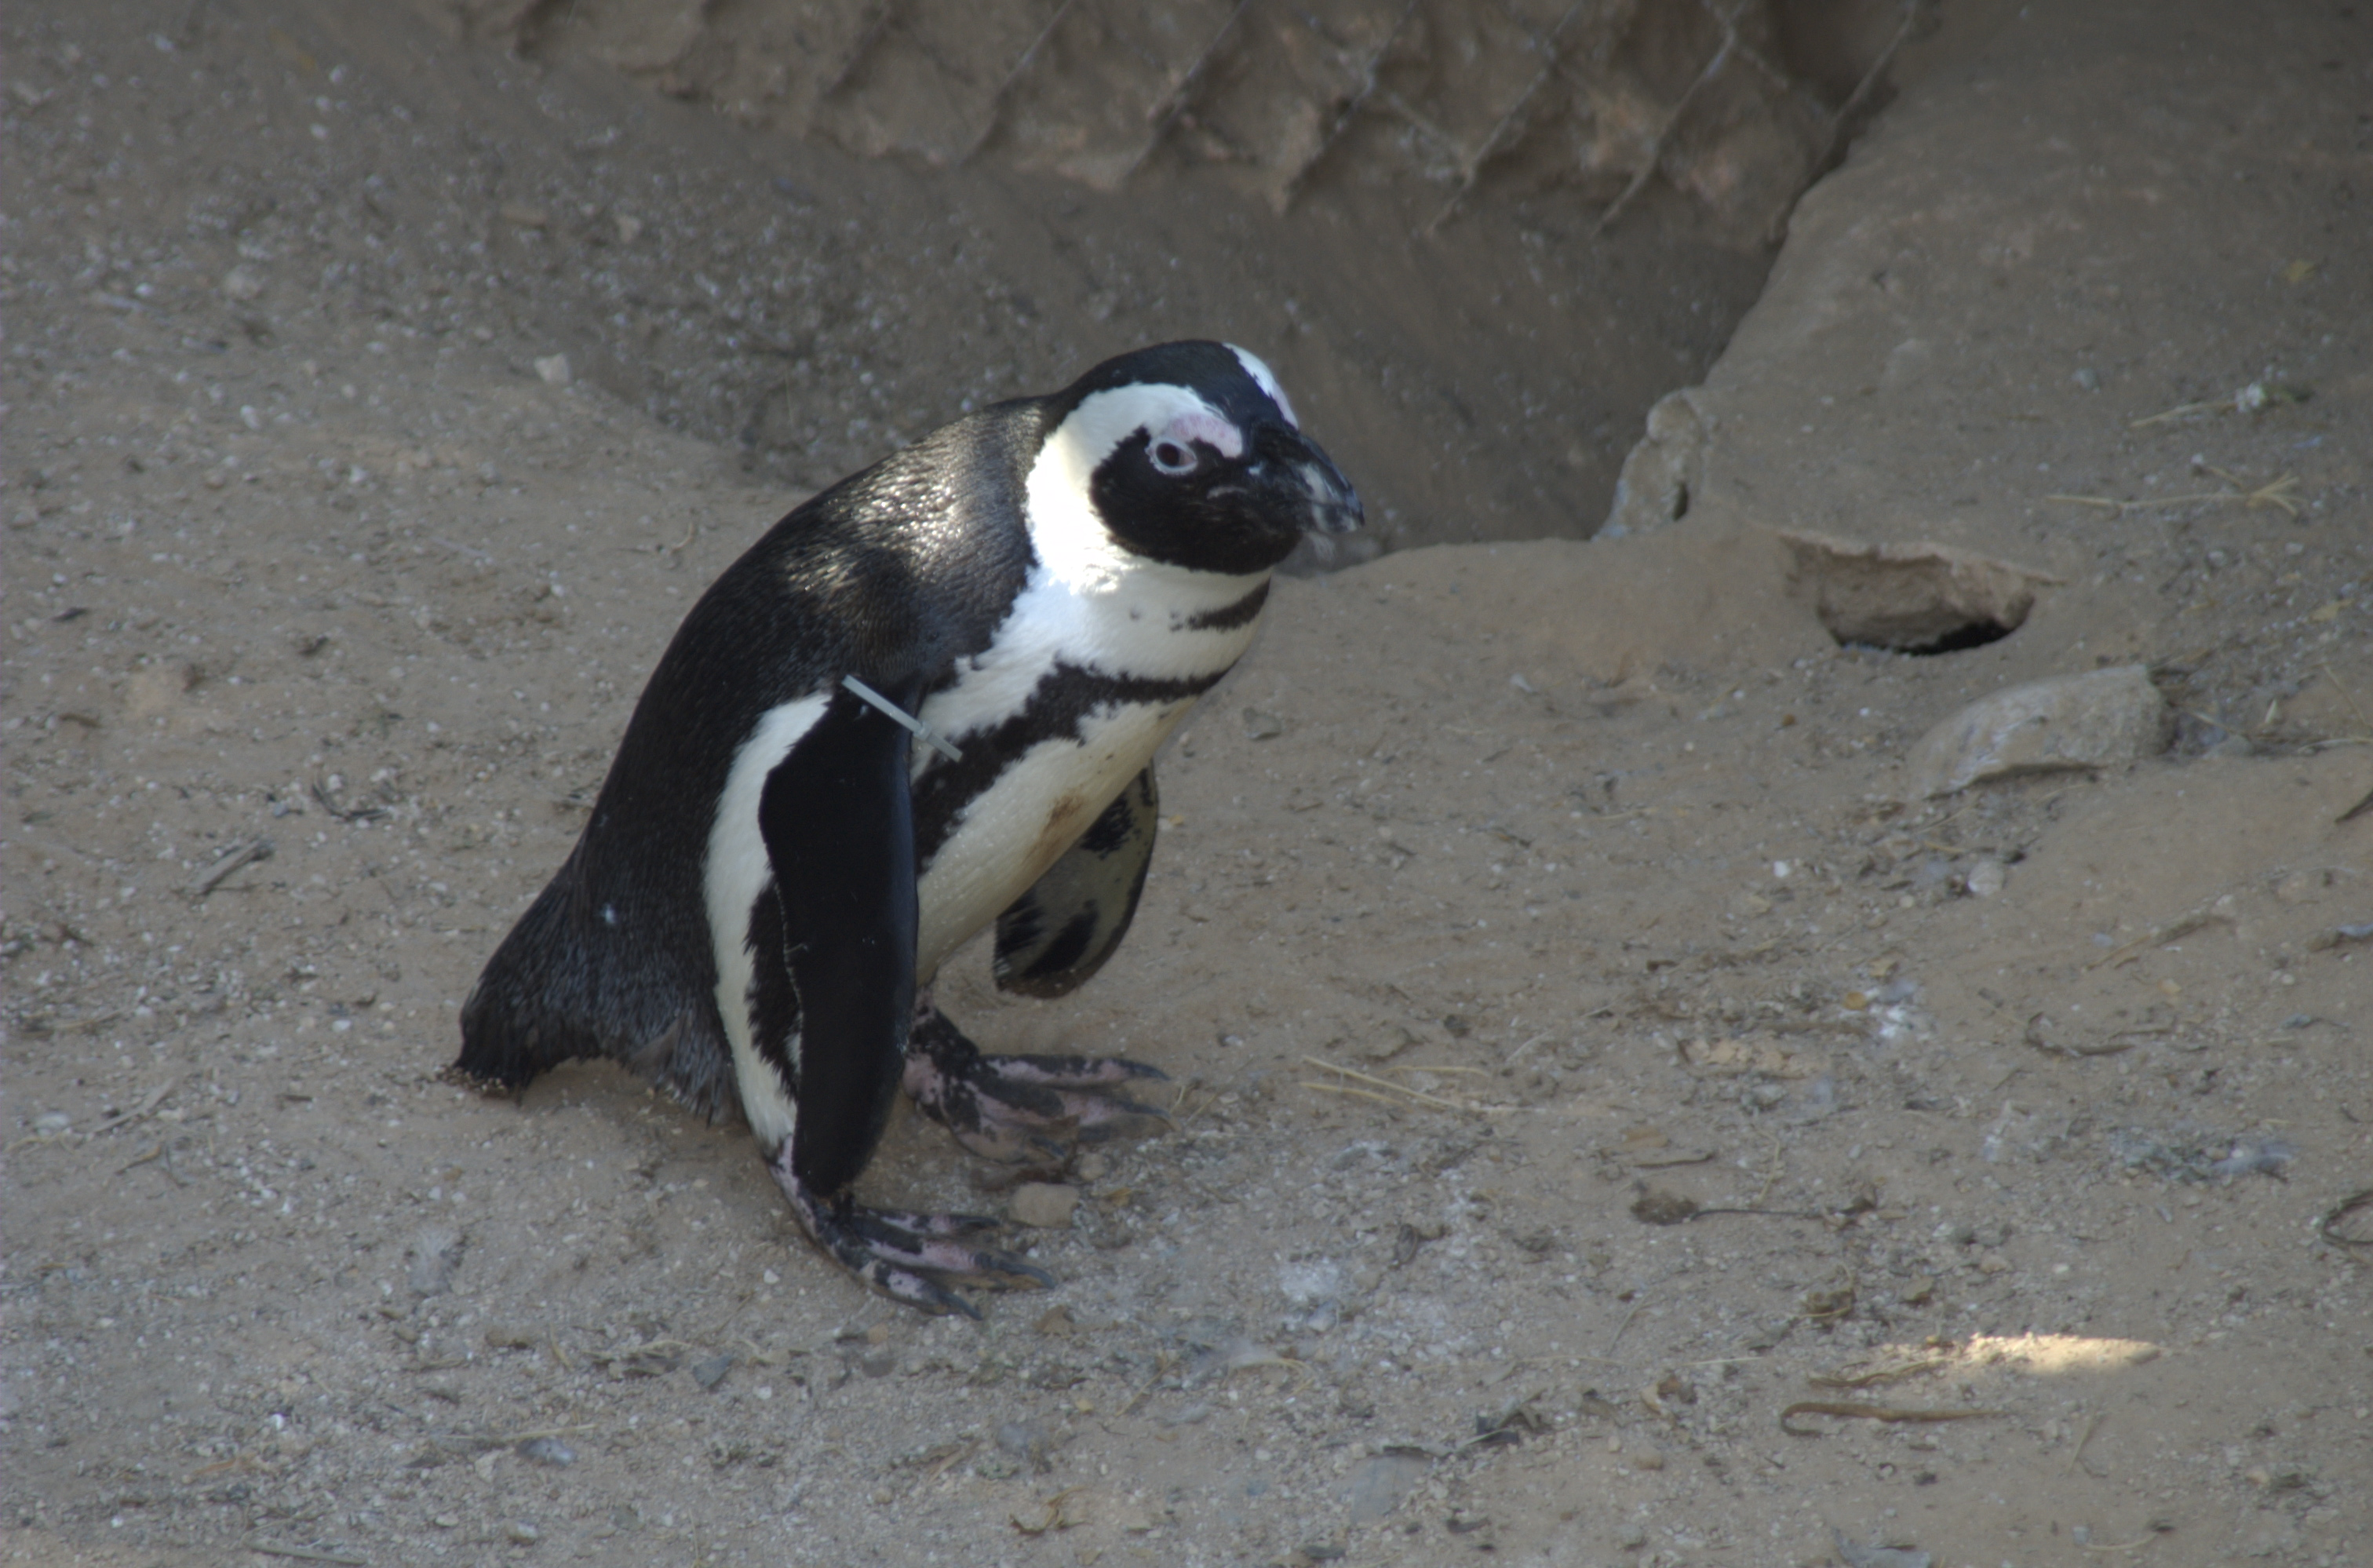penguin: (479, 324, 1372, 1297)
